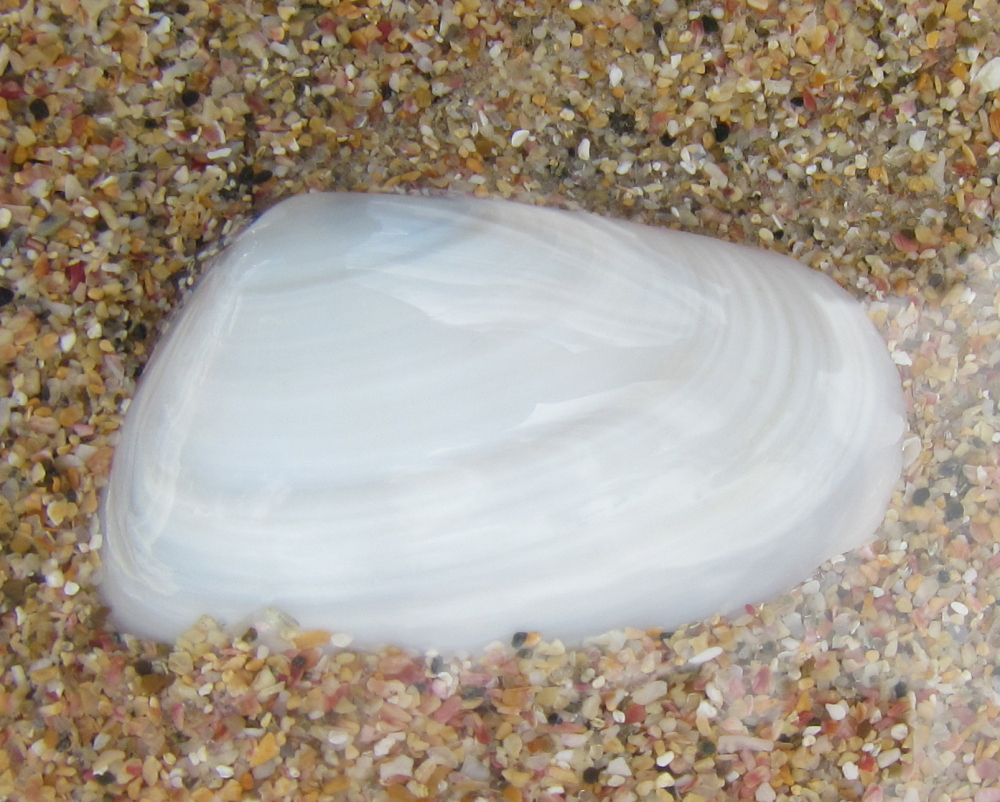tuatua: (97, 188, 919, 672)
